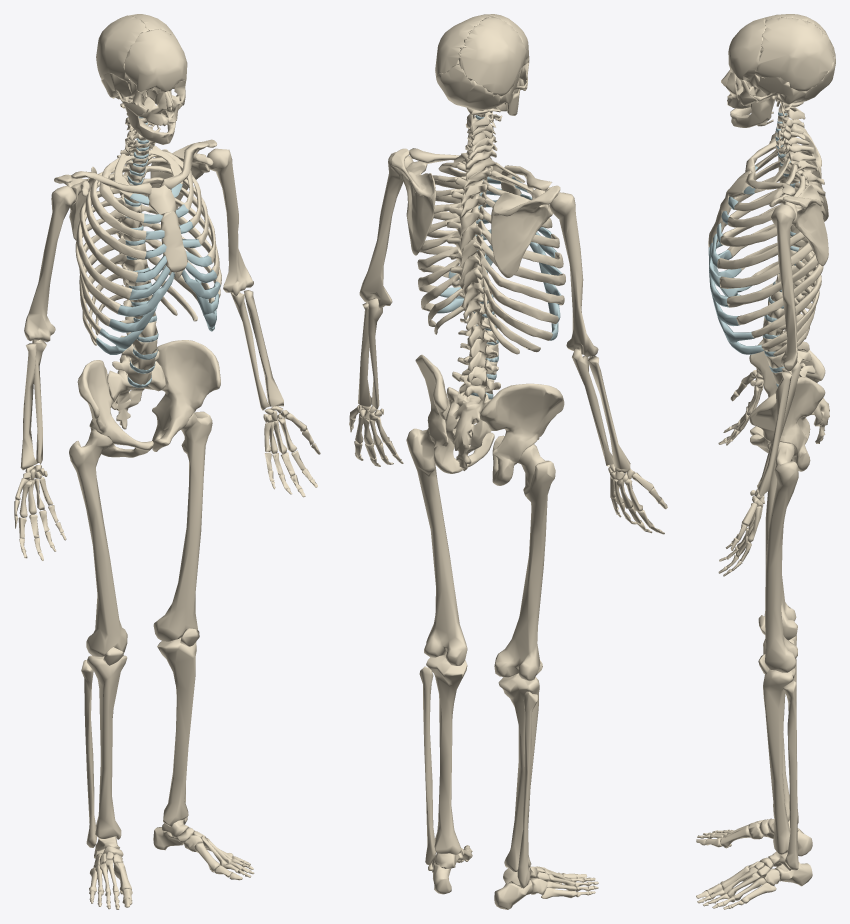
The model's file is skeleton.glb.
The picture shows the model from 3 angles, left to right: view 1: azimuth 30°, elevation 25°; view 2: azimuth 150°, elevation 25°; view 3: azimuth 270°, elevation 25°; orthographic projection. The views are drawn at different scales.
Parts seen in each view (by area): view 1: lower-limb-bones, ribcage, upper-limb-bones, skull, pelvis, spine; view 2: lower-limb-bones, upper-limb-bones, ribcage, spine, skull, pelvis; view 3: lower-limb-bones, ribcage, upper-limb-bones, skull, spine, pelvis.
Boxes of the visible parts, x1,y1,x2,y2 form: lower-limb-bones: (69,411,254,909); ribcage: (75,146,221,354); upper-limb-bones: (14,139,320,560); skull: (96,14,187,144); pelvis: (77,340,220,457); spine: (107,99,165,429); lower-limb-bones: (406,428,598,909); upper-limb-bones: (349,148,667,534); ribcage: (417,155,565,354); spine: (445,107,500,470); skull: (435,14,529,121); pelvis: (415,354,564,485); lower-limb-bones: (696,442,812,909); ribcage: (708,144,823,355); upper-limb-bones: (718,124,828,576); skull: (721,14,835,127); spine: (762,102,829,443); pelvis: (749,330,825,471).
Bounding box in the file's own units: 0.647 × 1.71 × 0.2538.
